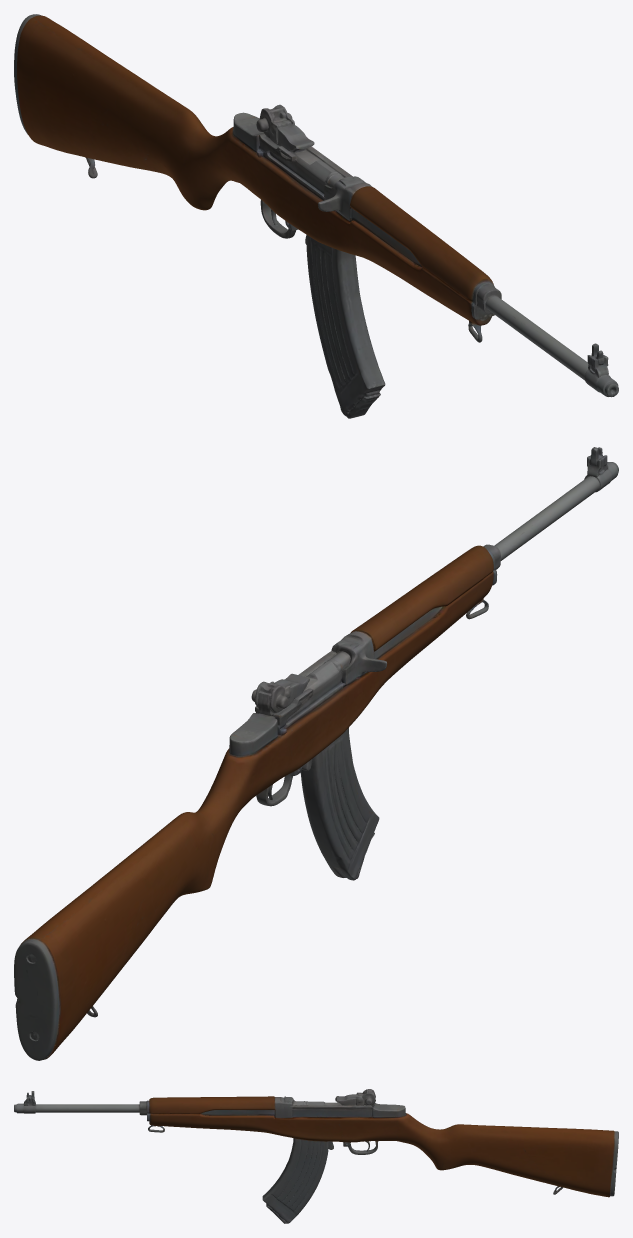
Rendered from rifle.glb.
3 renders of one model, top to bottom at view 1: azimuth 30°, elevation 25°; view 2: azimuth 150°, elevation 25°; view 3: azimuth 270°, elevation 25°, orthographic. The views are drawn at different scales.
Visible parts, largest first — view 1: model; view 2: model; view 3: model.
Part boxes in pixels (x1=…): model: x1=14, y1=14, x2=618, y2=418; model: x1=14, y1=447, x2=618, y2=1060; model: x1=14, y1=1089, x2=618, y2=1223.
Bounding box in the file's own units: 0.1038 × 0.4524 × 1.9.
1 material, 1 textured.
